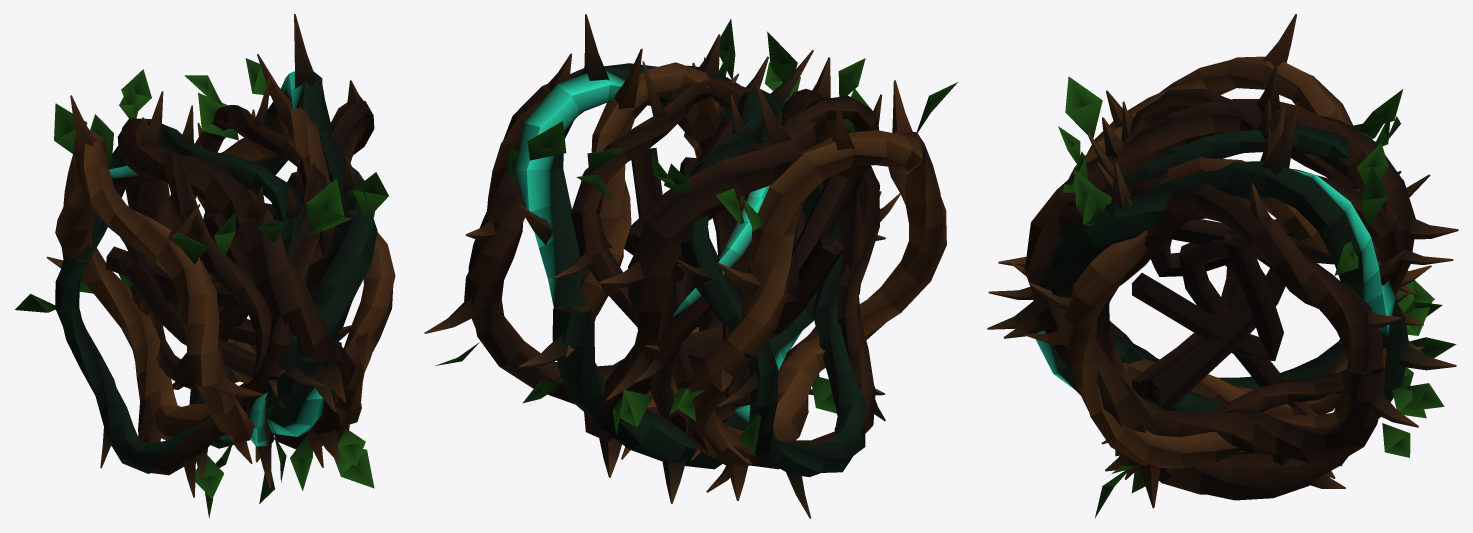
Rendered from SM_VineWheel_A.fbx.
The picture shows the model from 3 angles, left to right: view 1: azimuth 30°, elevation 25°; view 2: azimuth 150°, elevation 25°; view 3: azimuth 270°, elevation 25°; orthographic projection. The views are drawn at different scales.
Visible parts, largest first — view 1: SM_VineWheel_A; view 2: SM_VineWheel_A; view 3: SM_VineWheel_A.
Boxes of the visible parts, <box> form: SM_VineWheel_A: <box>15,14,395,518</box>; SM_VineWheel_A: <box>424,14,957,518</box>; SM_VineWheel_A: <box>987,14,1458,517</box>.
Bounding box in the file's own units: 1.69 × 2 × 1.94.
